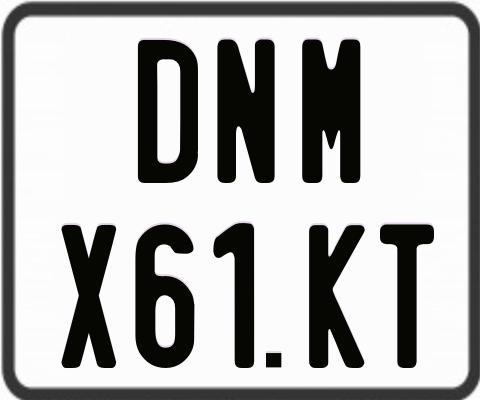1: (212, 223, 255, 374)
6: (135, 224, 198, 371)
D: (135, 38, 197, 185)
K: (308, 225, 364, 369)
M: (299, 39, 360, 185)
N: (214, 37, 273, 184)
T: (380, 223, 436, 373)
X: (59, 224, 114, 373)
